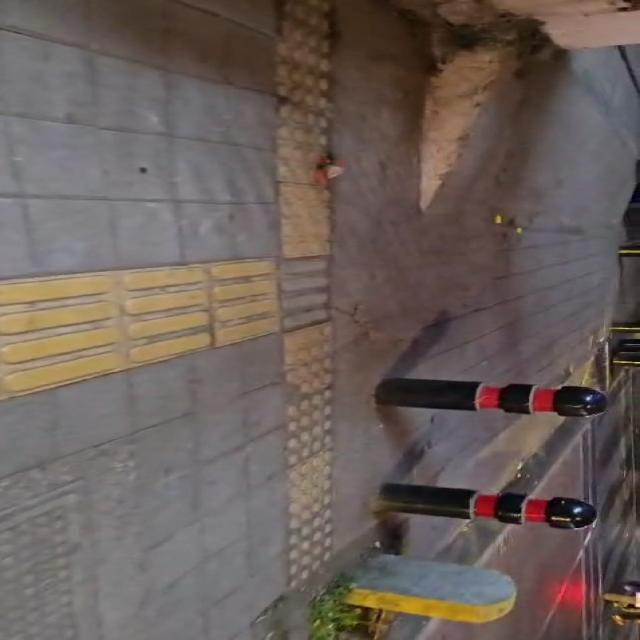obstacle: (377, 484, 597, 529), (375, 378, 606, 417), (612, 340, 639, 367), (610, 320, 639, 332), (619, 247, 639, 256)
